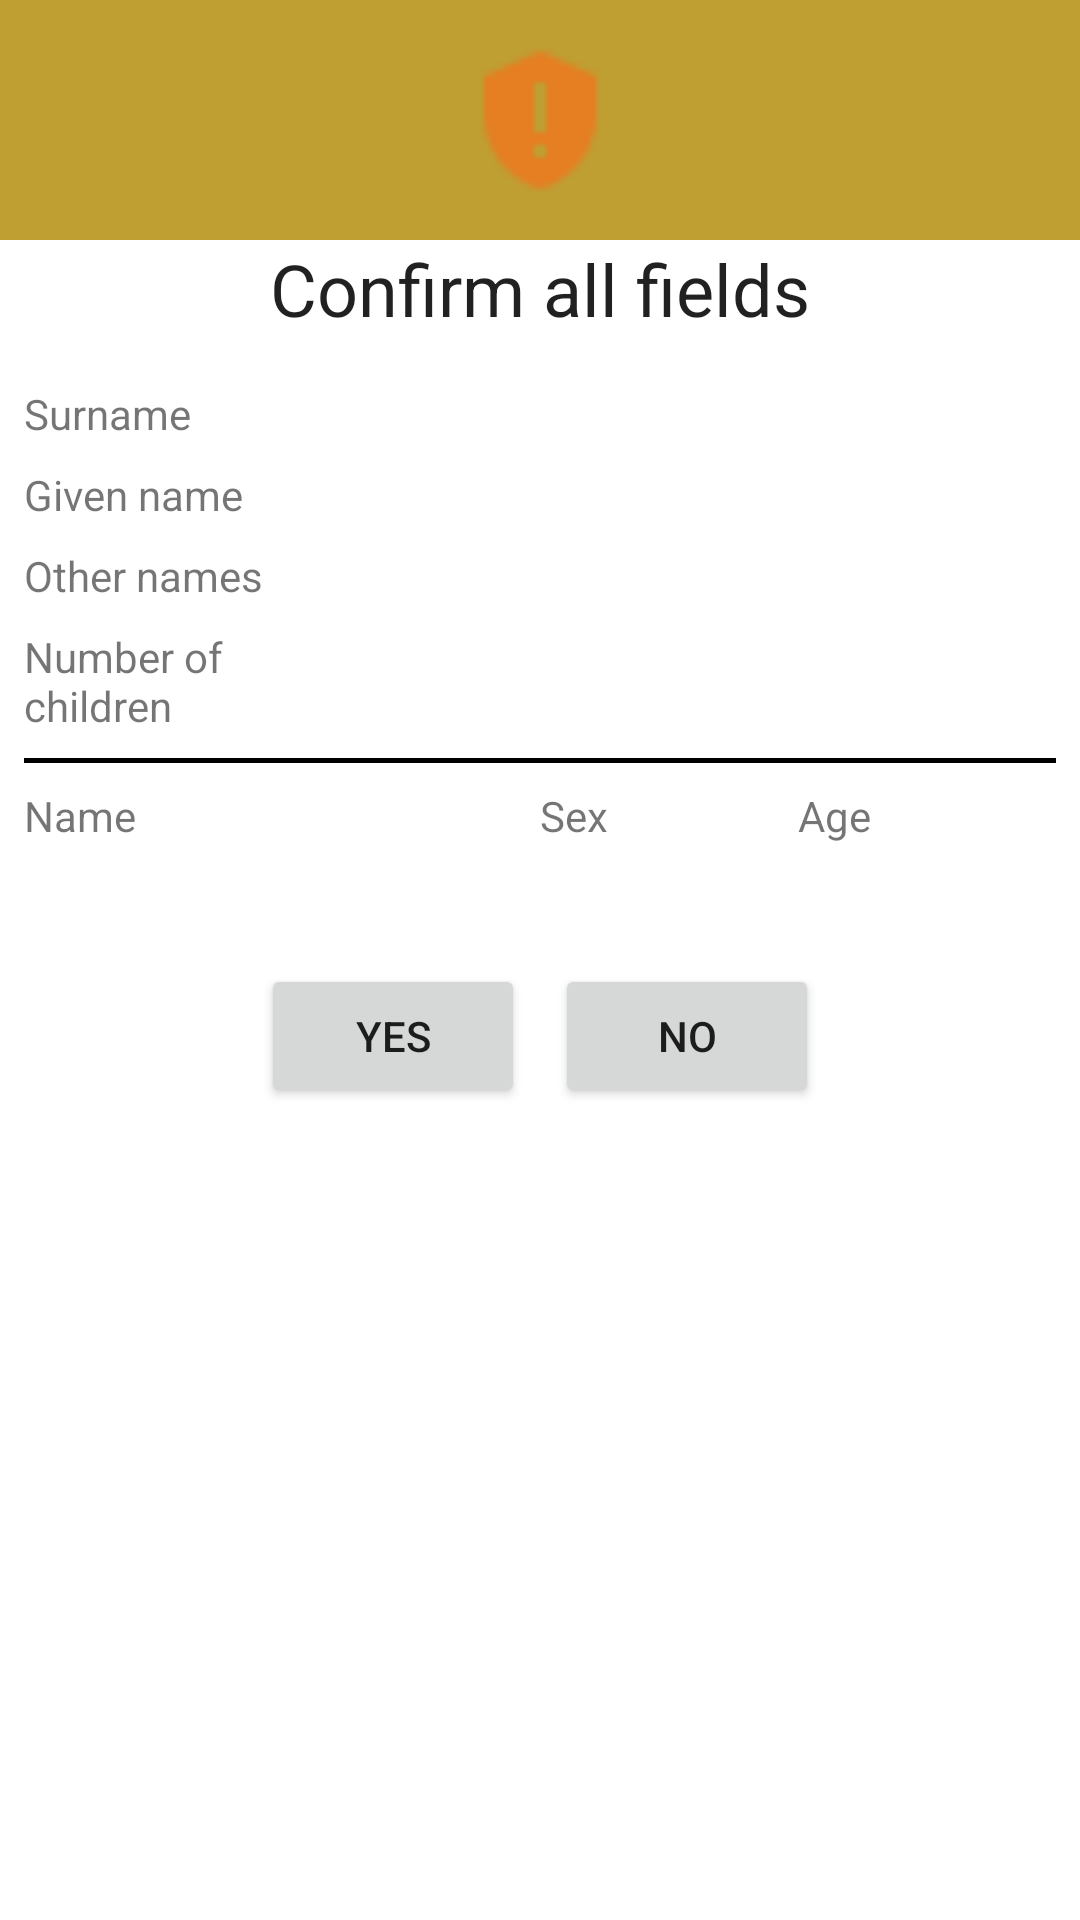

Locate icon controls on the screen. Image size 1080×1920, boxes as (x1, y1, x2, y2).
warning: (485, 53, 596, 187)
